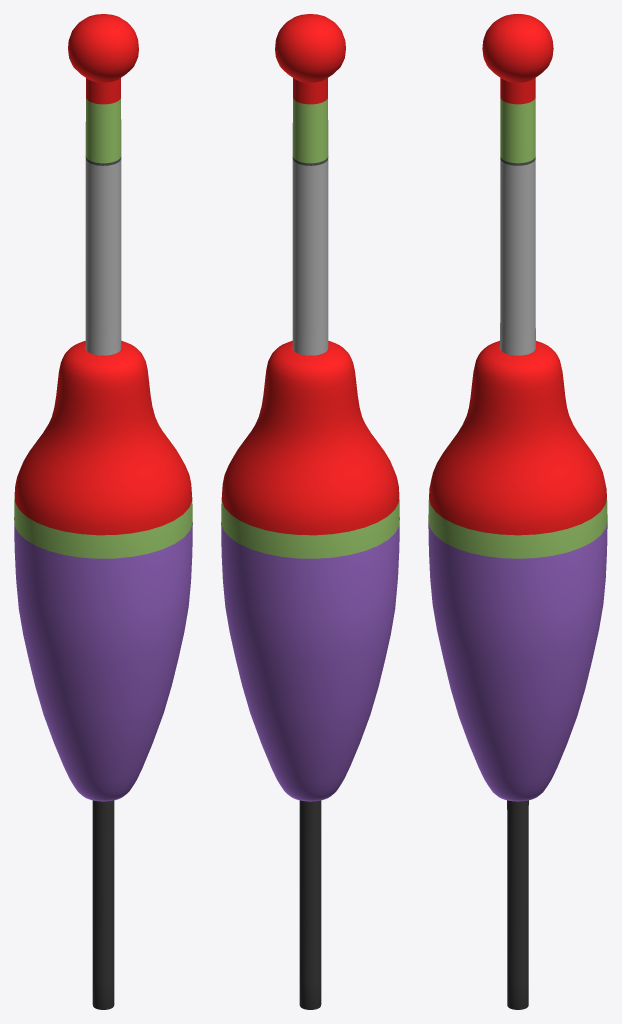
The model's file is float_06.fbx.
3 views of the same model, side by side, from view 1: azimuth 30°, elevation 25°; view 2: azimuth 150°, elevation 25°; view 3: azimuth 270°, elevation 25° (orthographic).
Visible parts, largest first — view 1: Float_06; view 2: Float_06; view 3: Float_06.
Part boxes in pixels (x1,y1,x2,y2): Float_06: (14, 14, 192, 1009); Float_06: (221, 14, 399, 1009); Float_06: (428, 14, 607, 1009).
Bounding box in the file's own units: 61.73 × 376 × 61.73.
